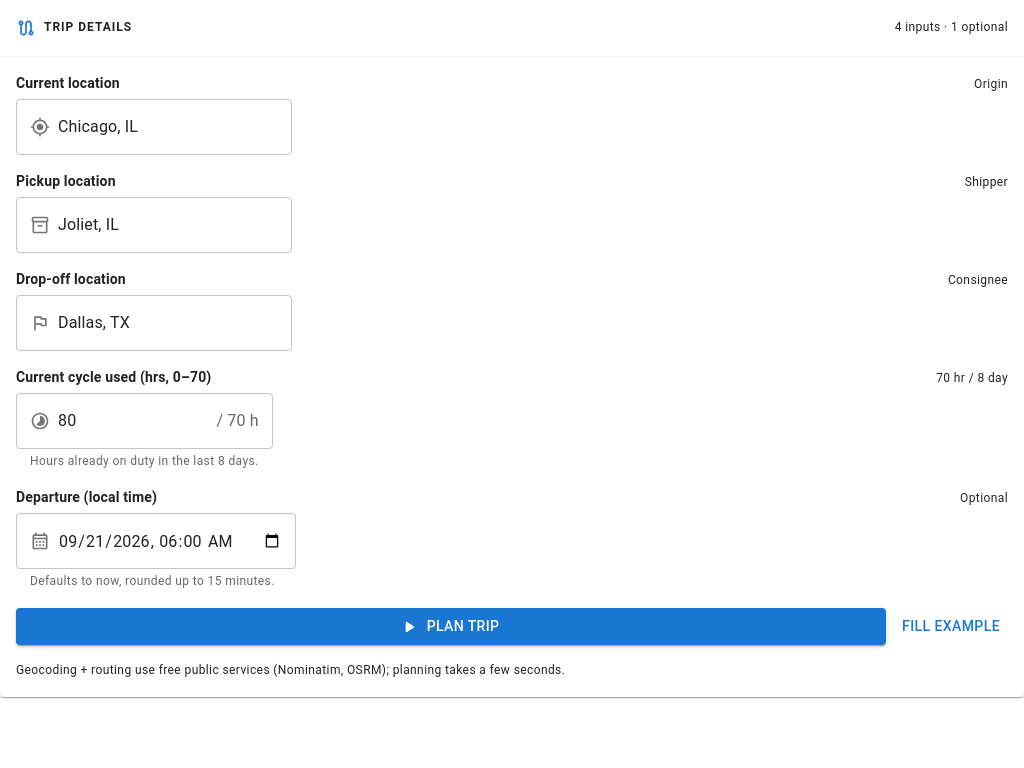
it: TripForm › blocks submission client-side for cycle hours above 70
Click the button "Plan trip" at (451, 627), box [16,608,886,645]
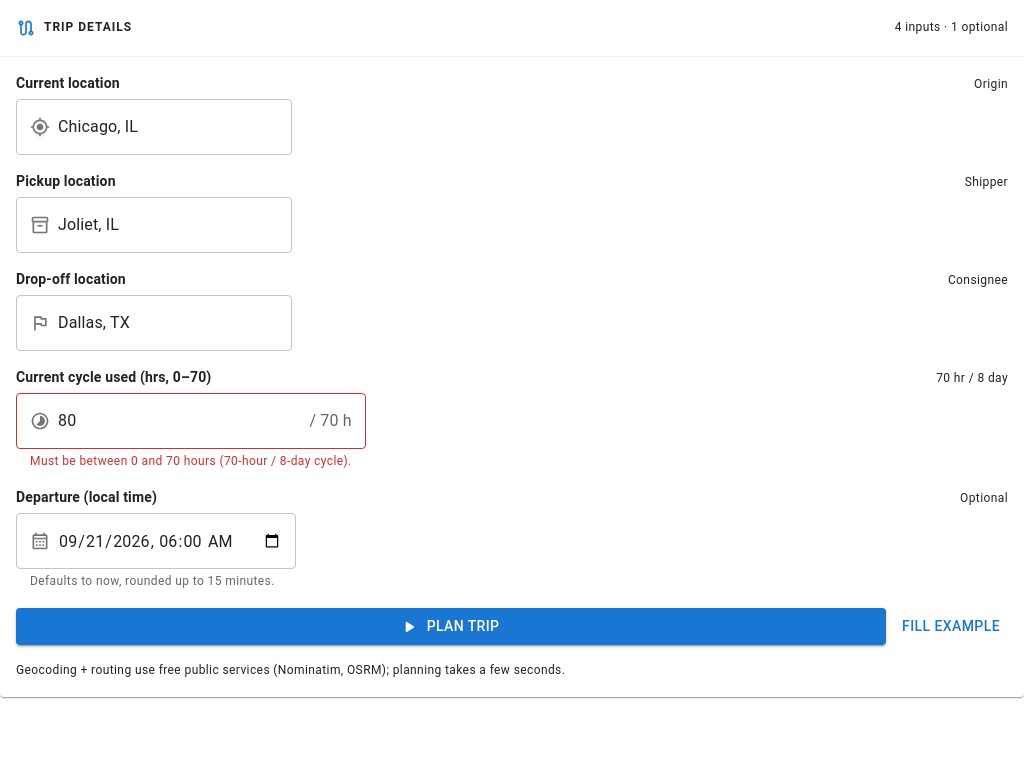
Expected: the text "Must be between 0 and 70 hours (70-hour / 8-day cycle)." is shown, [30,452,352,471]
